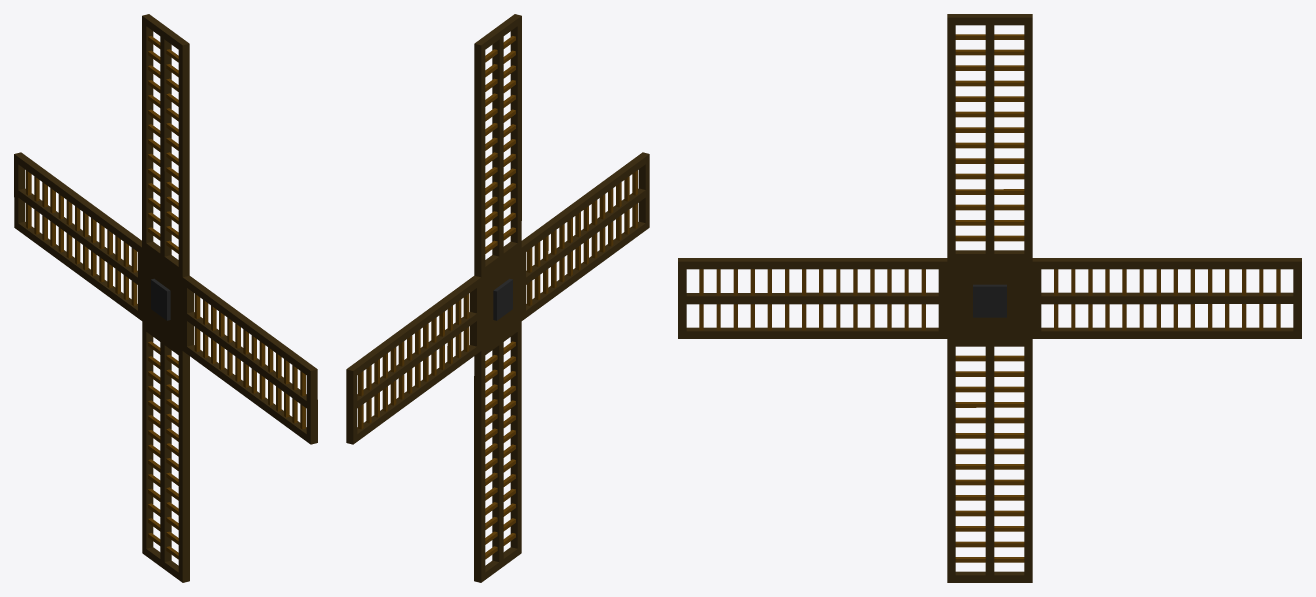
Rendered from tris.obj.
3 renders of one model, left to right at view 1: azimuth 30°, elevation 25°; view 2: azimuth 150°, elevation 25°; view 3: azimuth 270°, elevation 25°, orthographic. The views are drawn at different scales.
Parts seen in each view (by area): view 1: slot14, slot242, slot272; view 2: slot14, slot242, slot272; view 3: slot14, slot242, slot272.
Part boxes in pixels (x1,y1,x2,y2): slot14: (14, 14, 317, 582); slot242: (26, 36, 305, 559); slot272: (151, 278, 170, 320); slot14: (346, 14, 649, 582); slot242: (358, 36, 637, 559); slot272: (493, 278, 512, 320); slot14: (678, 14, 1301, 582); slot242: (699, 34, 1280, 562); slot272: (973, 284, 1006, 317).
Bounding box in the file's own units: 4 × 146 × 146.
